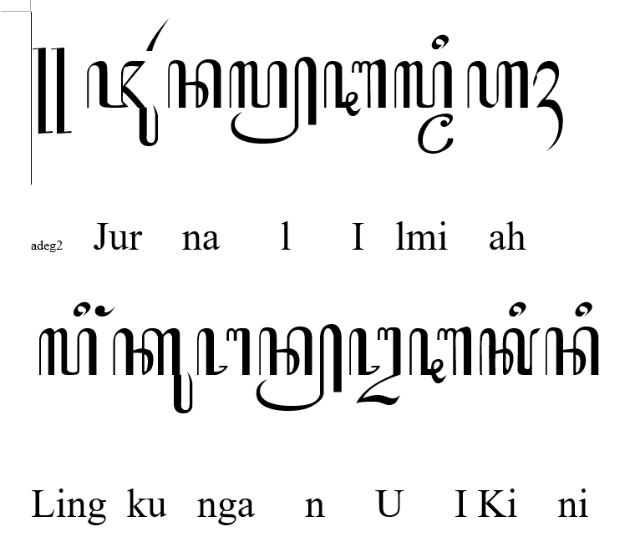-l: (228, 55, 318, 145)
-n: (255, 324, 342, 412)
I: (322, 58, 388, 118), (408, 326, 472, 384)
K: (478, 326, 540, 376)
U: (348, 326, 404, 406)
_h1: (532, 59, 564, 151)
_m: (418, 113, 454, 155)
_r1: (144, 17, 170, 51)
adeg2: (32, 46, 72, 134)
h: (465, 60, 529, 110)
i: (572, 300, 592, 318), (72, 301, 91, 319), (508, 301, 528, 317), (431, 34, 449, 50)
ju: (85, 59, 159, 146)
ku: (112, 328, 194, 414)
l: (38, 327, 98, 379), (393, 60, 453, 110)
n: (168, 59, 222, 109), (544, 326, 598, 376)
ng: (95, 304, 115, 317)
nga: (197, 327, 251, 377)
